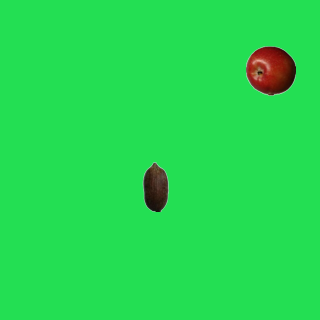Apple Braeburn: (245, 45, 295, 95)
Nut Pecan: (130, 161, 180, 211)
